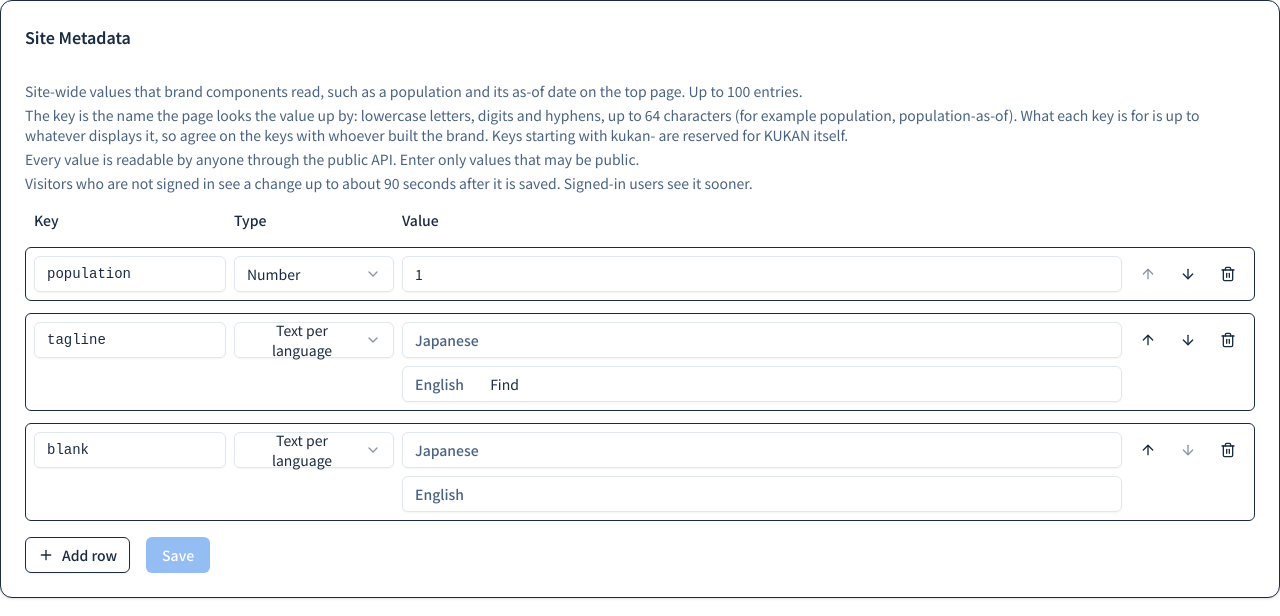
Test case: SiteMetadataCard › should keep a per-language text as stored when another row is saved
expect the text "Site Metadata" is shown: met, box x1=25 y1=25 x2=131 y2=49
expect the button "Save" is disabled: met, box x1=146 y1=537 x2=210 y2=573
Replace the text in the field showing "1" with "2" at (762, 274), box x1=402 y1=256 x2=1122 y2=292
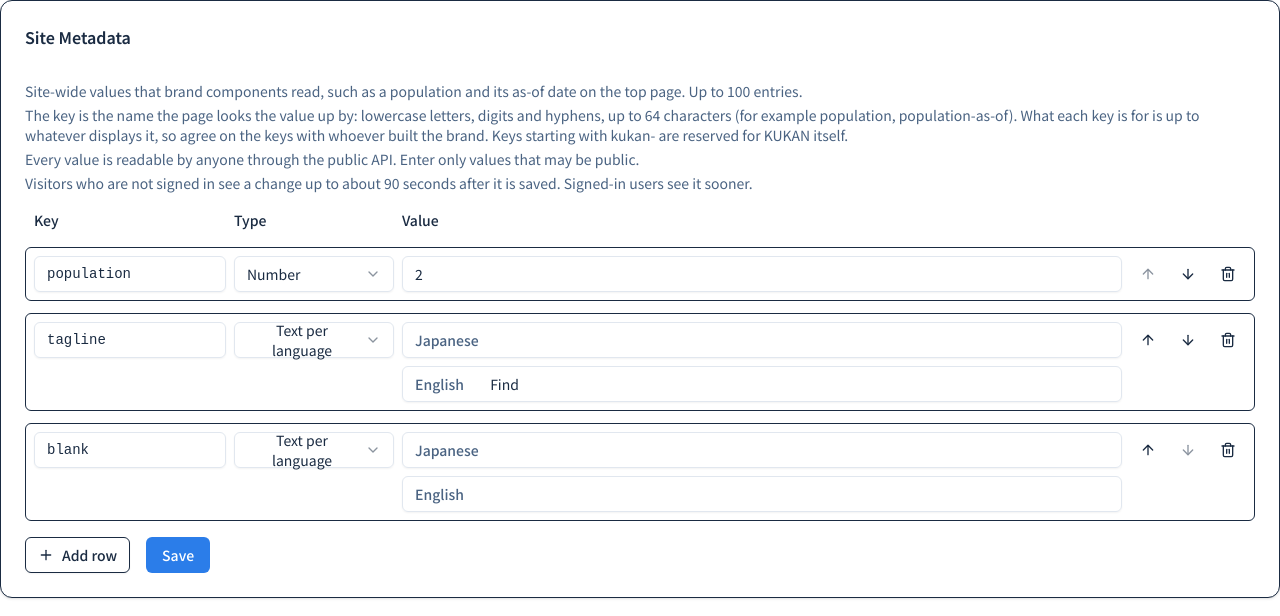
expect the button "Save" is enabled: met
Click the button "Save" at (178, 555), box x1=146 y1=537 x2=210 y2=573
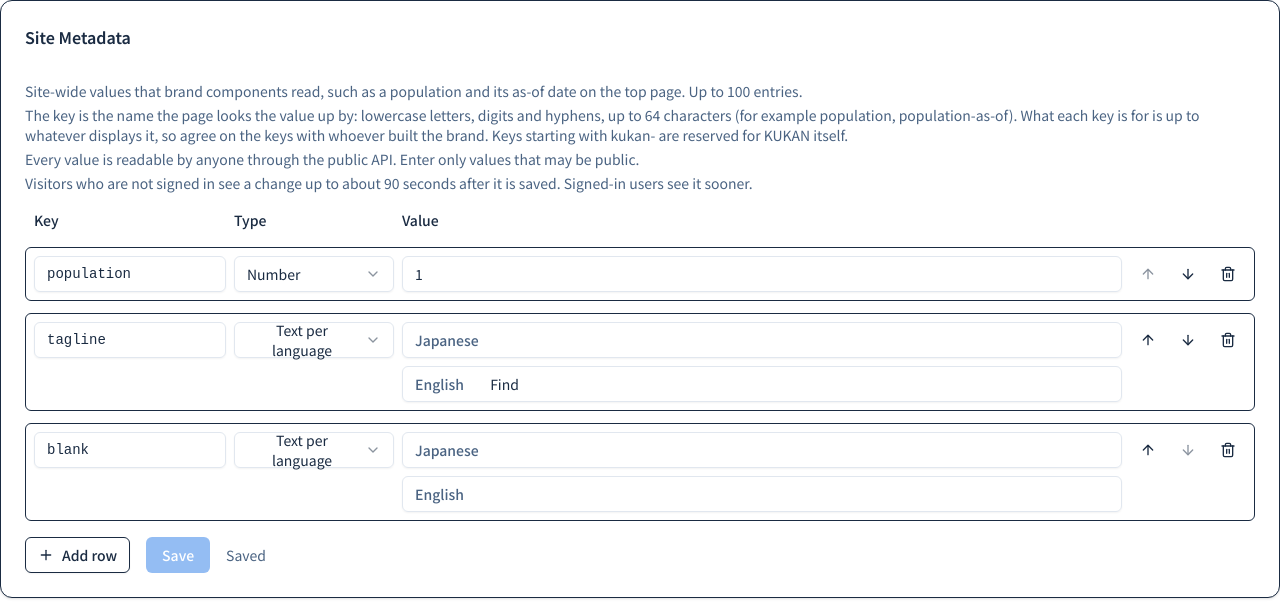
expect the message "Saved" is shown: met, box x1=226 y1=545 x2=266 y2=565
